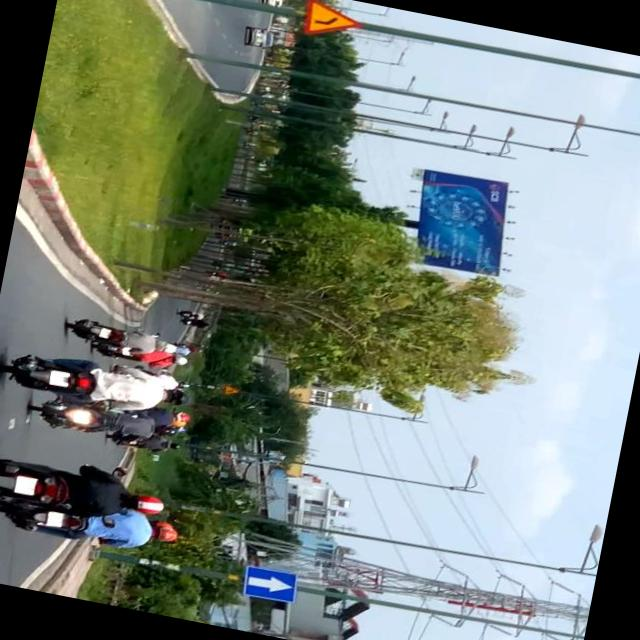I-407a: (241, 566, 297, 602)
W-201a: (303, 0, 368, 43)
